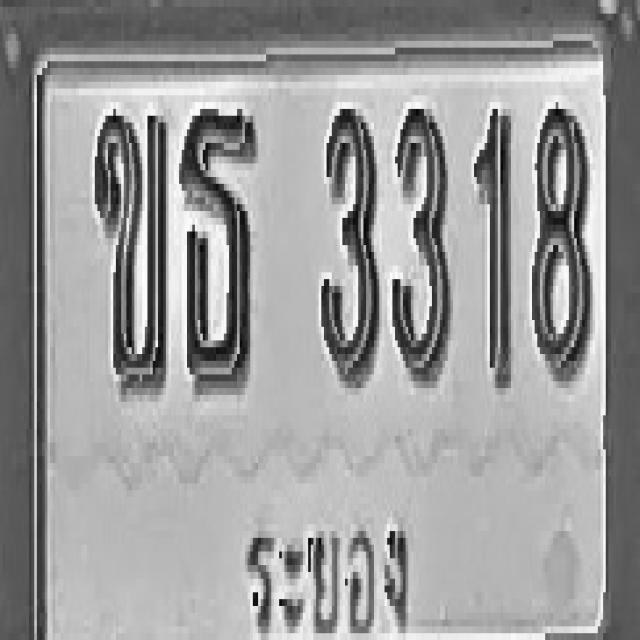1: (474, 106, 511, 392)
11KhorKhai: (94, 109, 167, 395)
3: (319, 102, 379, 388), (392, 102, 450, 388)
33ThorThong: (179, 102, 258, 395)
8: (532, 102, 590, 381)
Rayong: (235, 505, 426, 640)
